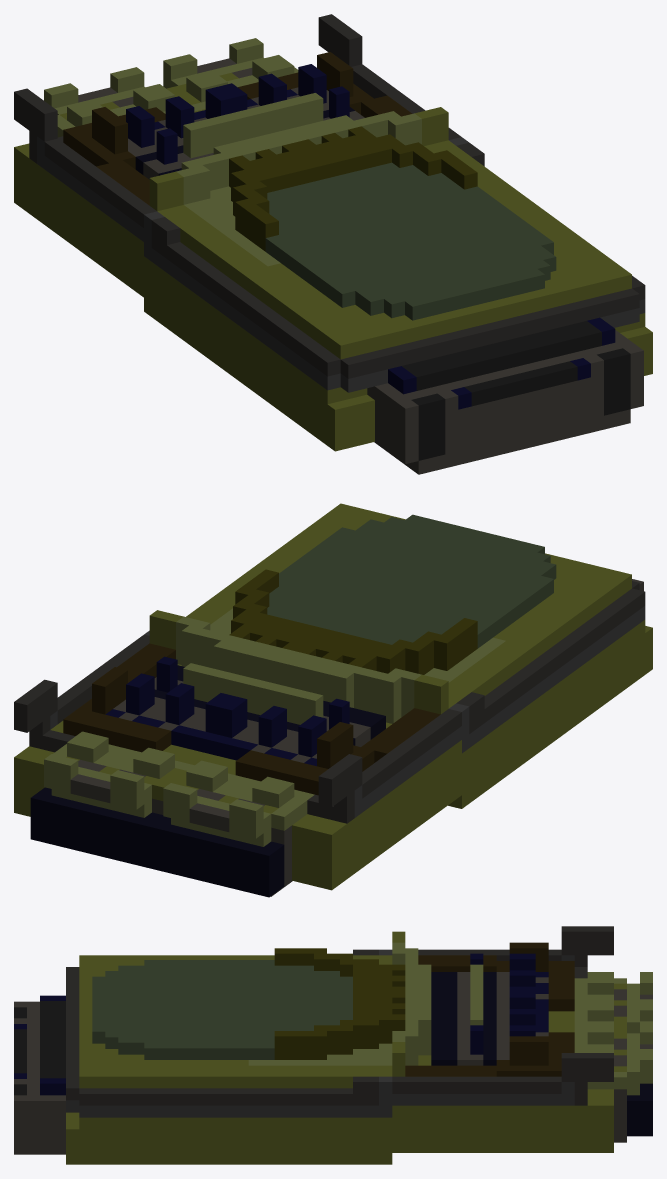
Rendered from firsttank-7.obj.
3 views of the same model, one above another, from view 1: azimuth 30°, elevation 25°; view 2: azimuth 150°, elevation 25°; view 3: azimuth 270°, elevation 25° (orthographic). The views are drawn at different scales.
Size of the model in its own units: 2.4 by 1 by 4.9.
1 material, 1 textured.
